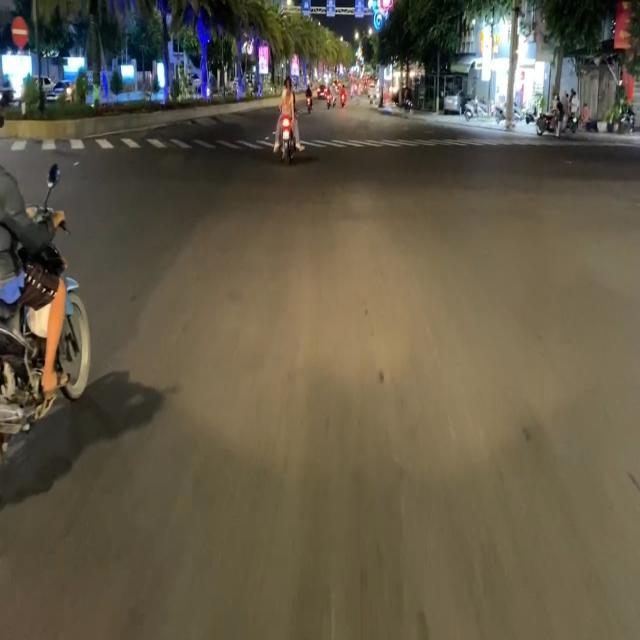walk-crossing: (1, 132, 271, 151)
